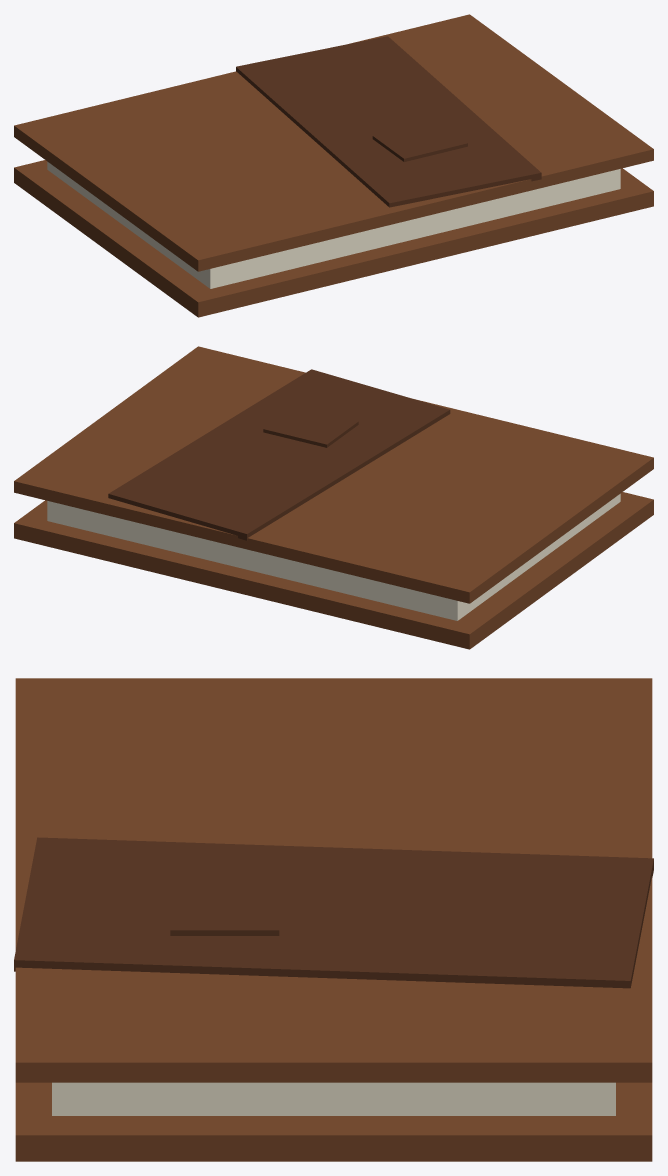
File: carnet_grandpere.glb
3 views of the same model, one above another, from view 1: azimuth 30°, elevation 25°; view 2: azimuth 150°, elevation 25°; view 3: azimuth 270°, elevation 25° (orthographic). The views are drawn at different scales.
Visible parts, largest first — view 1: couverture_haut, carnet_grandpere, couverture_bas, pages; view 2: couverture_haut, carnet_grandpere, couverture_bas, pages; view 3: couverture_haut, carnet_grandpere, couverture_bas, pages.
Part boxes in pixels (box(x1,y1,x2,y2)): couverture_haut: box(14, 14, 653, 271); carnet_grandpere: box(236, 36, 541, 207); couverture_bas: box(14, 160, 653, 317); pages: box(47, 161, 620, 288); couverture_haut: box(14, 346, 653, 603); carnet_grandpere: box(108, 369, 450, 540); couverture_bas: box(14, 492, 653, 649); pages: box(47, 493, 620, 620); couverture_haut: box(15, 678, 652, 1082); carnet_grandpere: box(14, 837, 653, 988); couverture_bas: box(15, 1082, 652, 1161); pages: box(52, 1082, 615, 1115).
Size of the model in its own units: 0.5 by 0.068 by 0.3517.
